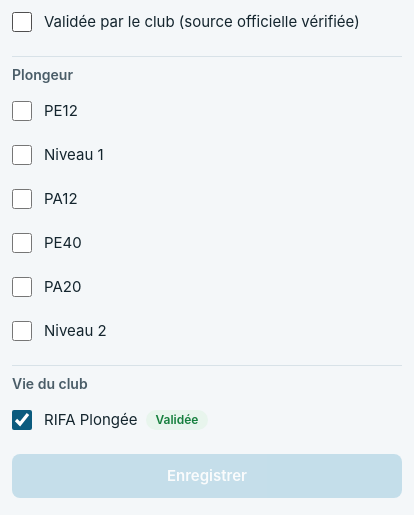
CertificationTree › unchecking a held row stages its removal
Later steps or results of the test are not shown.
Click the checkbox labelled "RIFA Plongée": (22, 420) [12, 410, 32, 430]
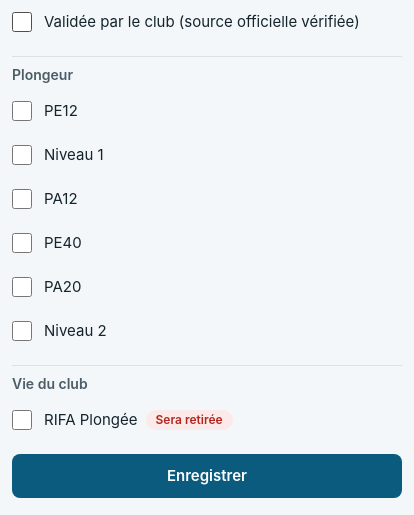
Check: the text "Sera retirée" is shown, box [146, 410, 233, 430]
